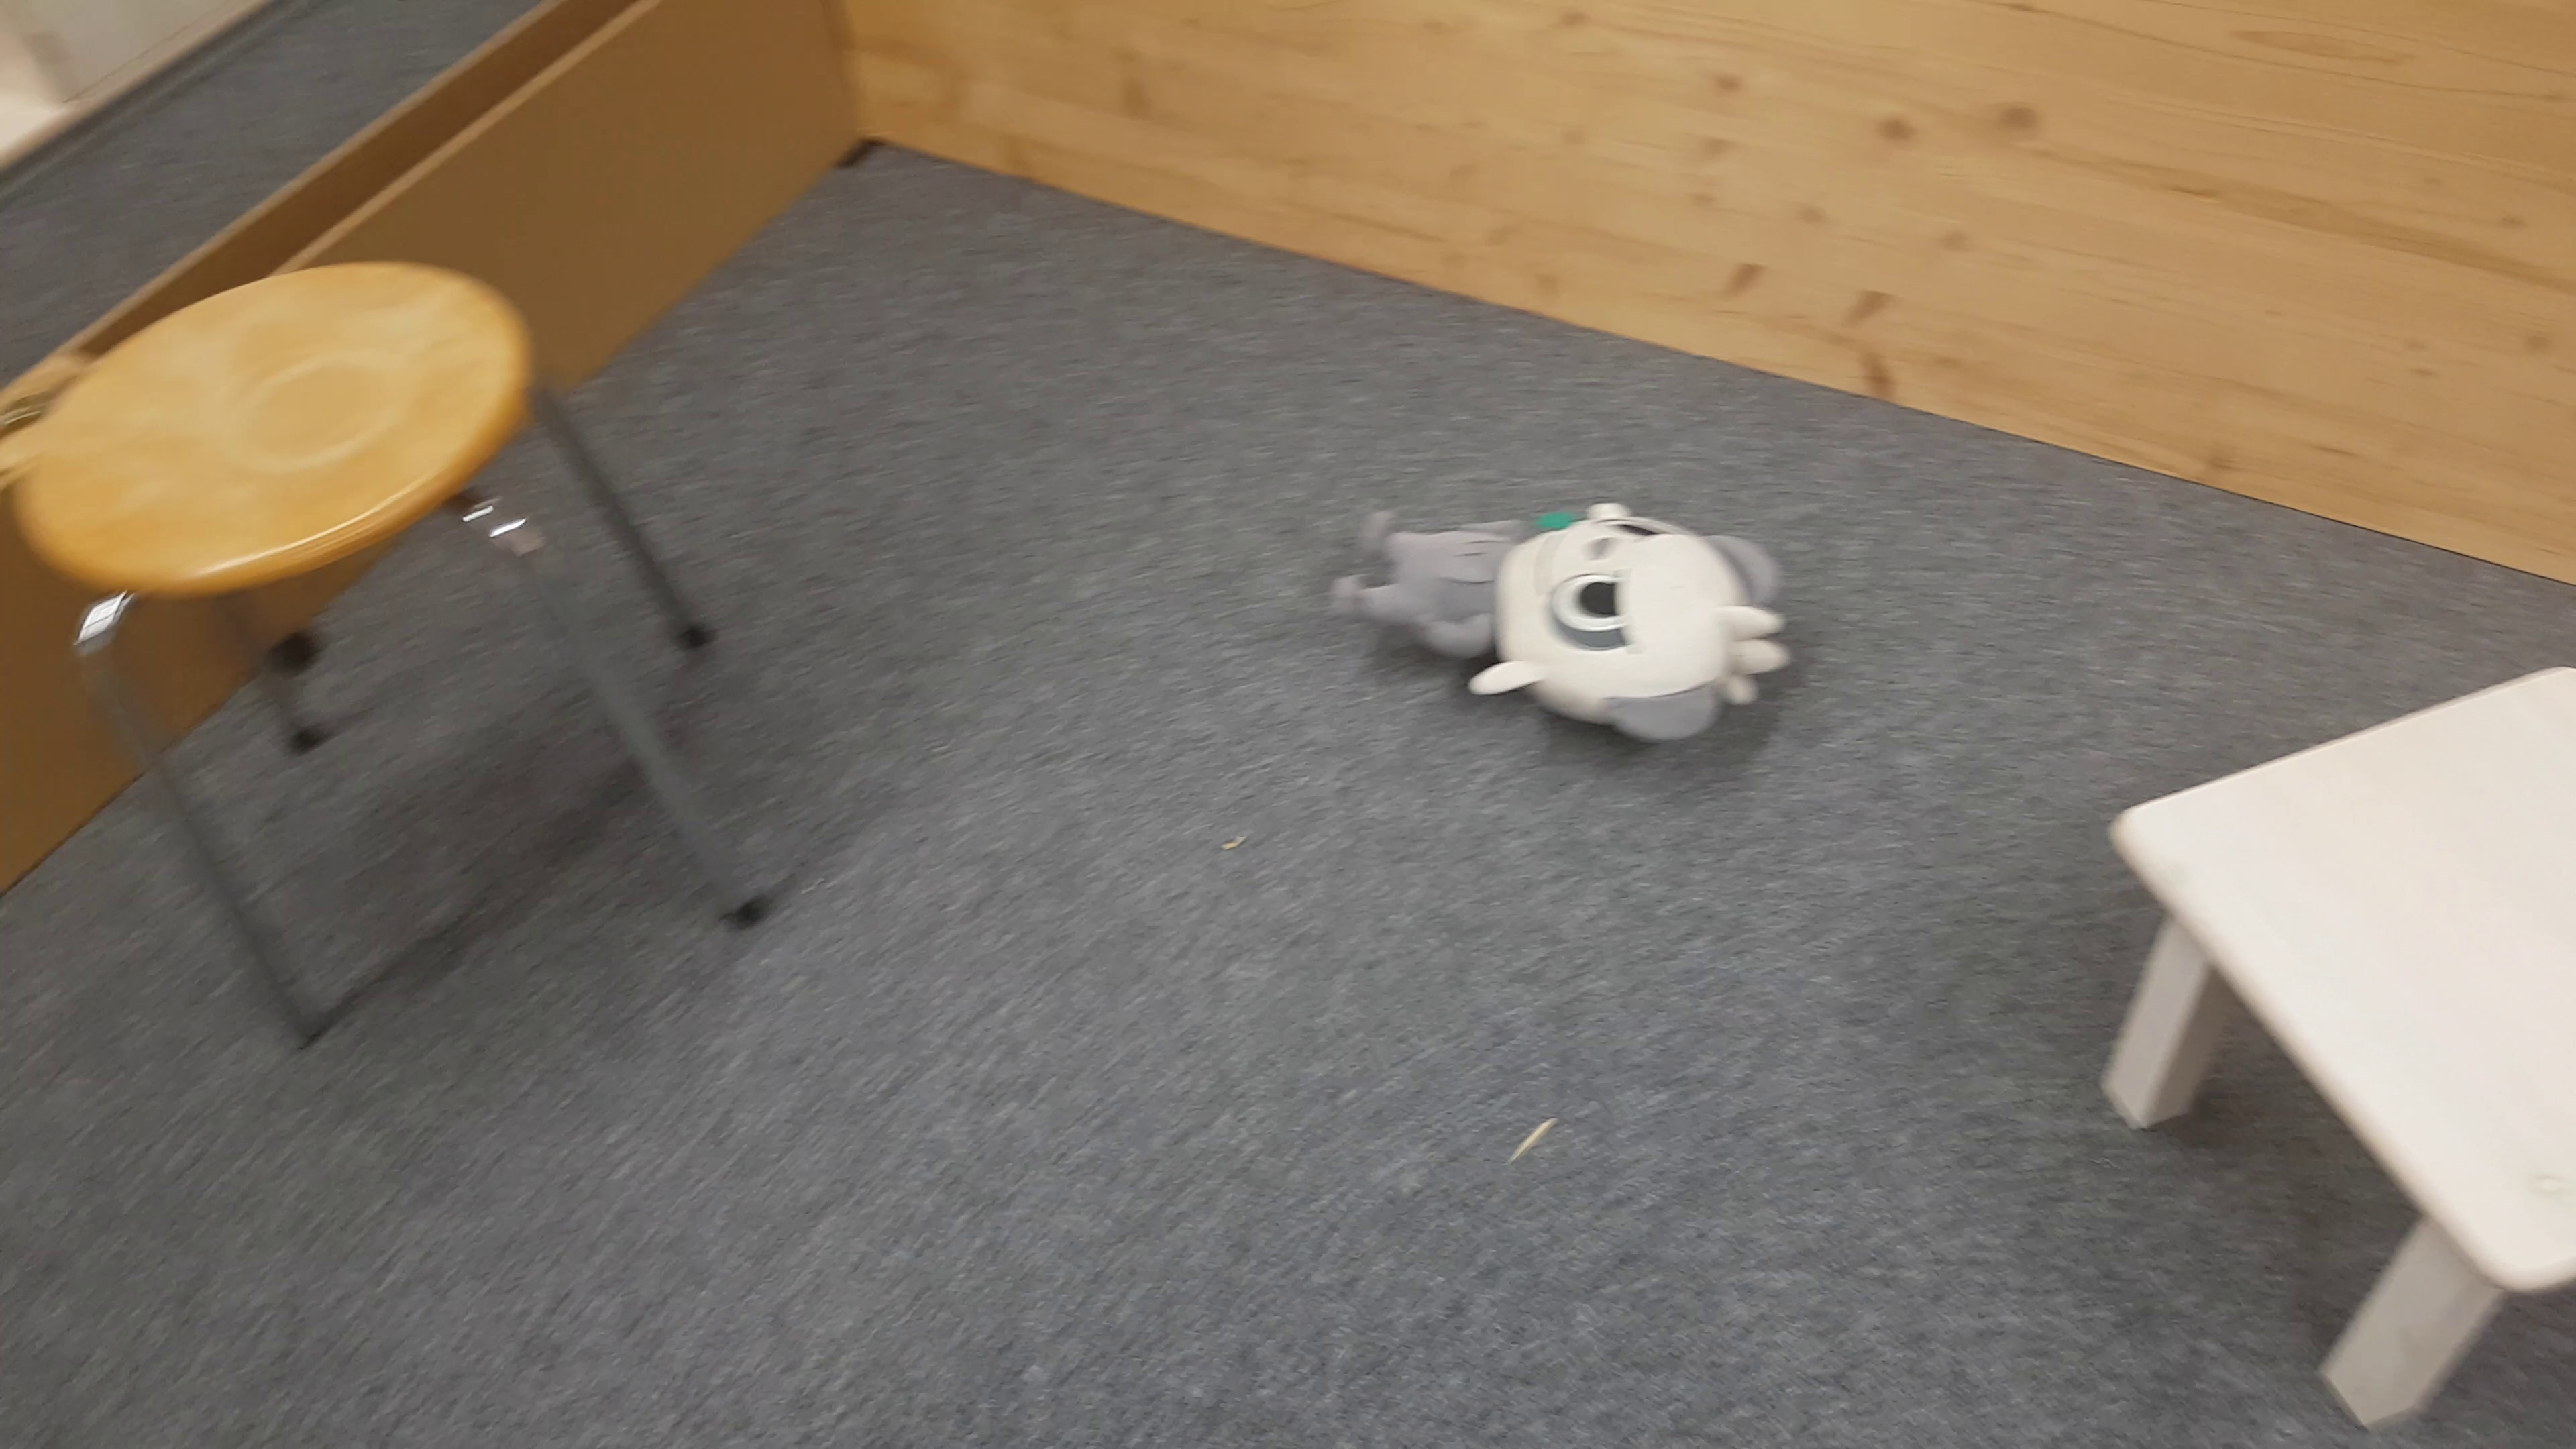grasp: (1339, 483, 1787, 738)
